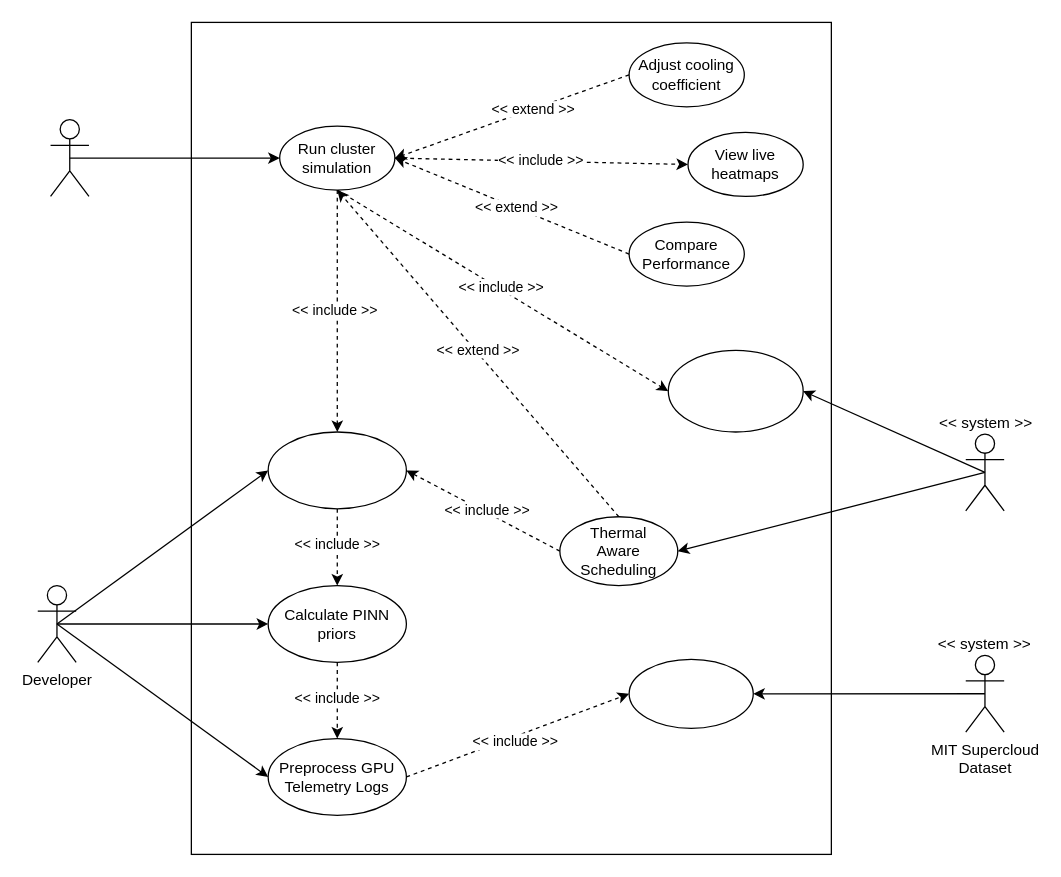
Image size: 1061x877. Some labels were removed from this diagram. The shapes that lost their labels are listed below. From the top down, each one's centre as x and y in pixels, then its label:
the point at 69,157: End User
the point at 735,390: Thermal Unaware Scheduling
the point at 336,470: Train, Evaluate & Freeze PINN
the point at 984,472: Job Scheduler
the point at 690,693: Supply GPU Telemetry Logs
